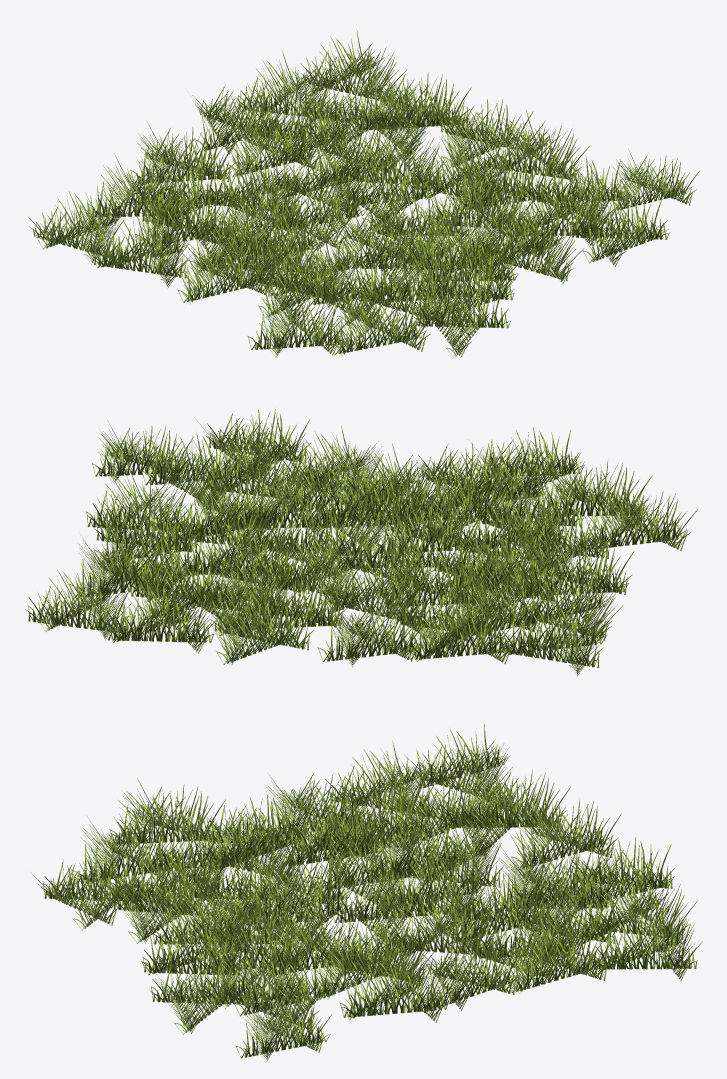
The model's file is grass_large_2.glb.
The picture shows the model from 3 angles, top to bottom: view 1: azimuth 30°, elevation 25°; view 2: azimuth 150°, elevation 25°; view 3: azimuth 270°, elevation 25°; orthographic projection. The views are drawn at different scales.
Parts seen in each view (by area): view 1: grass_large_2; view 2: grass_large_2; view 3: grass_large_2.
Boxes of the visible parts, x1=… form: grass_large_2: x1=28, y1=29, x2=700, y2=358; grass_large_2: x1=25, y1=409, x2=697, y2=676; grass_large_2: x1=30, y1=724, x2=702, y2=1061.
Bounding box in the file's own units: 56.06 × 6.21 × 53.64.
Materials: 1 (1 with a texture image).
